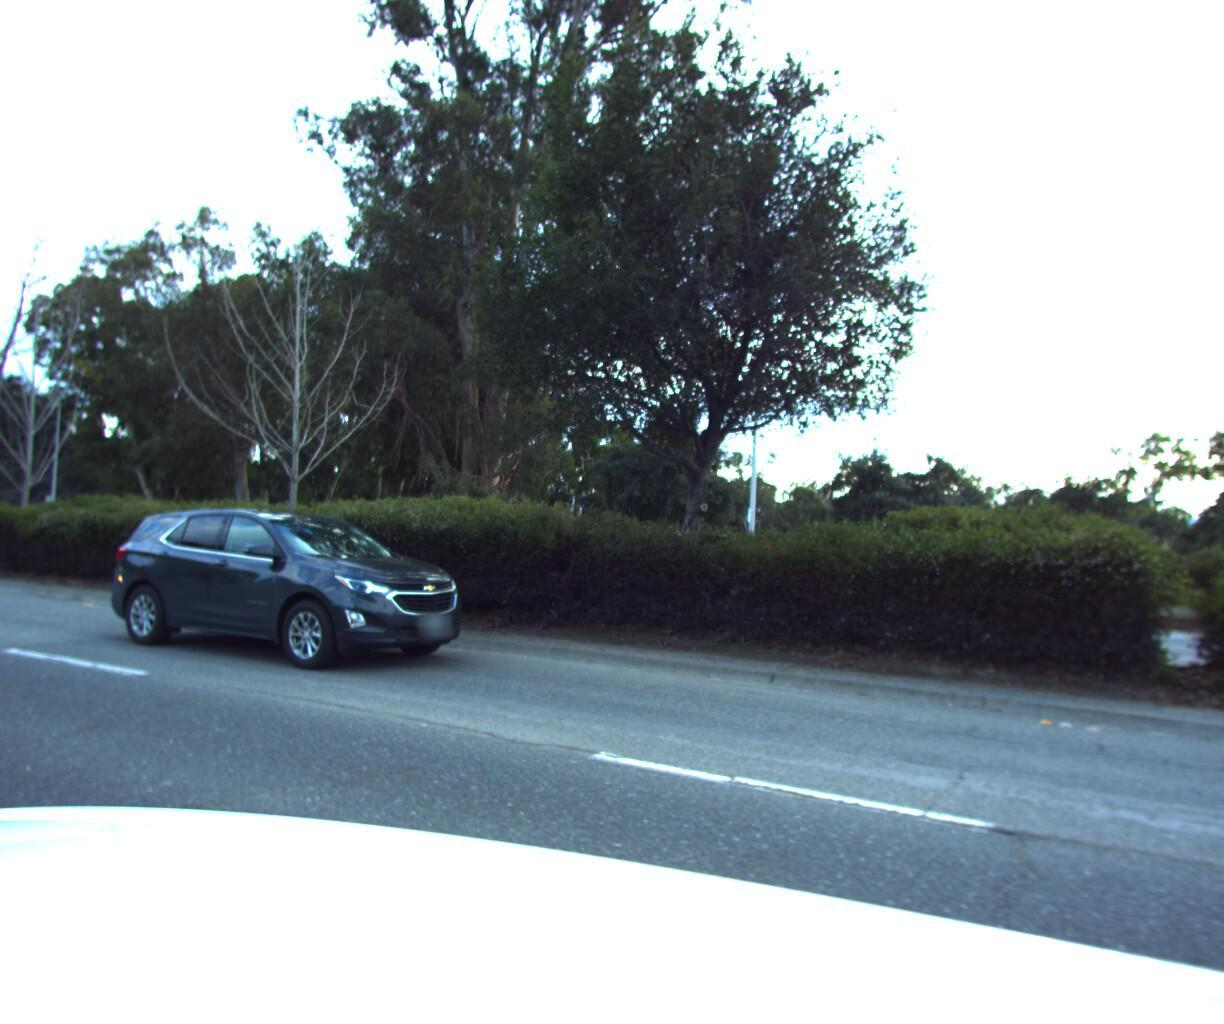car: (91, 500, 496, 680)
